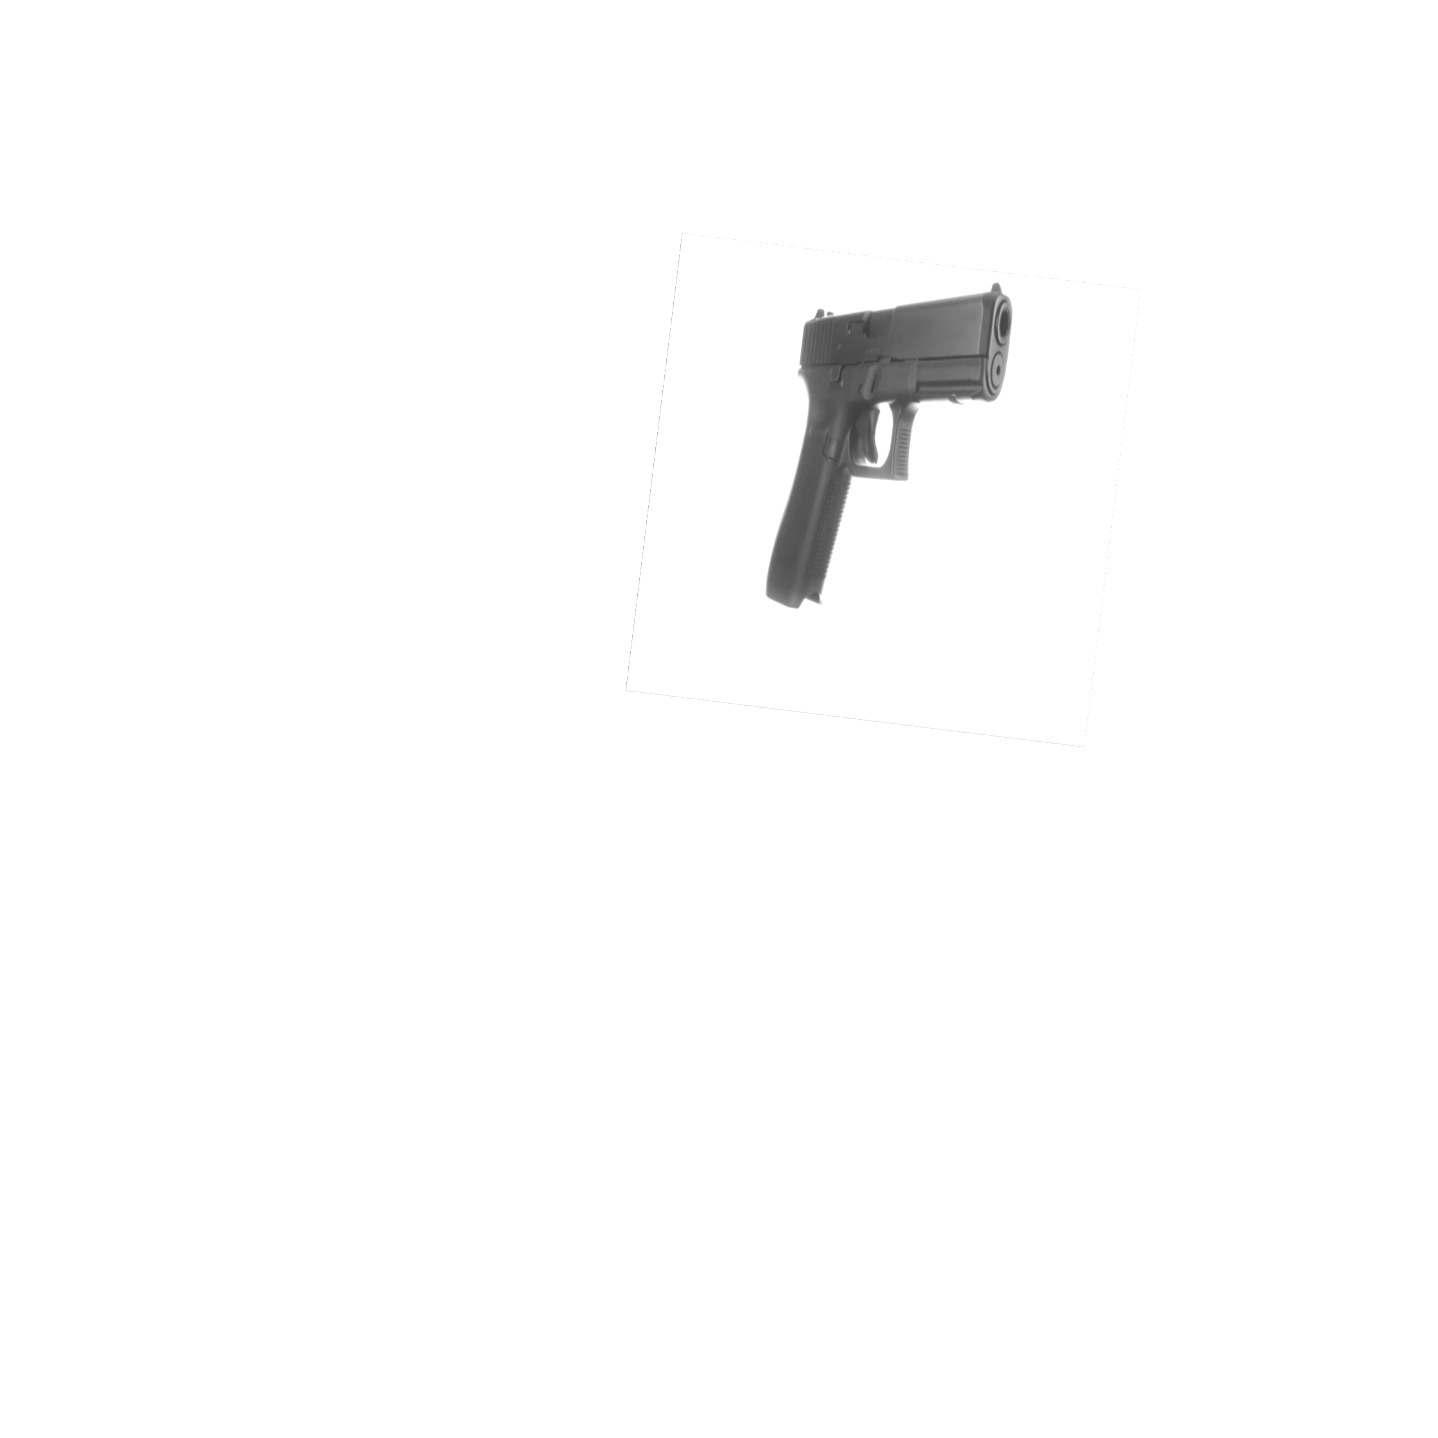gun: (759, 284, 1014, 604)
